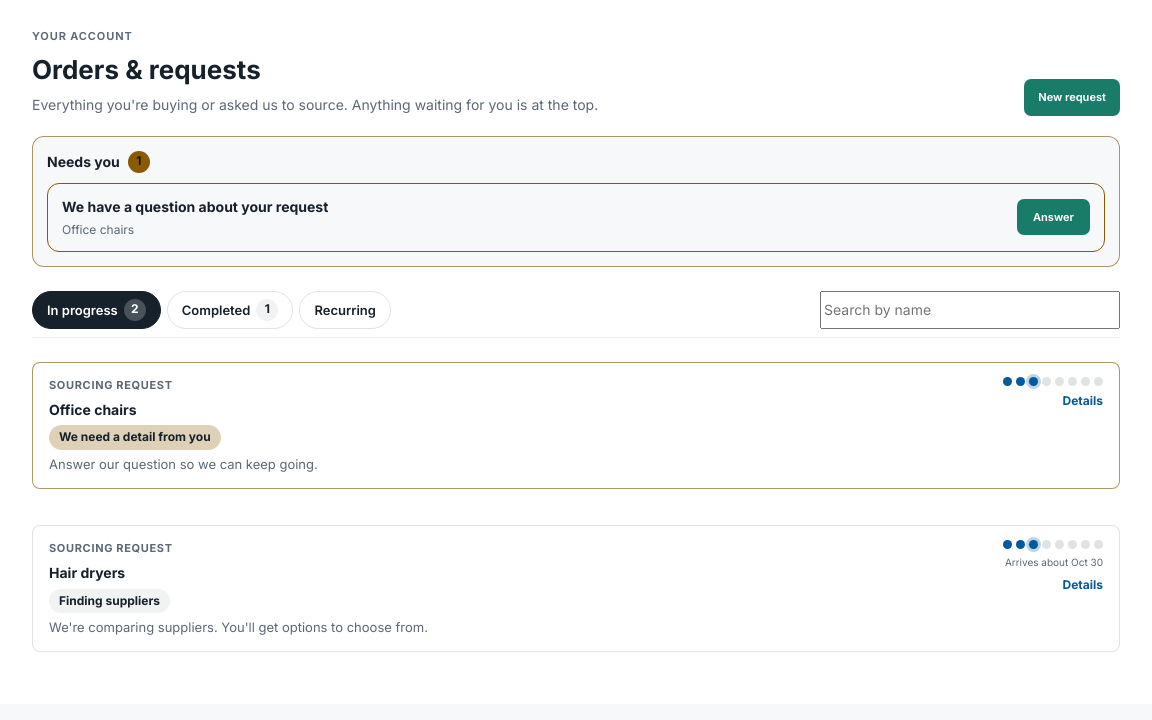
Test: Orders & requests › opens the request from Needs you, and the card shows its full detail
Click the button "Answer" at (1053, 217), box [1017, 199, 1090, 235]
(page scrolled)
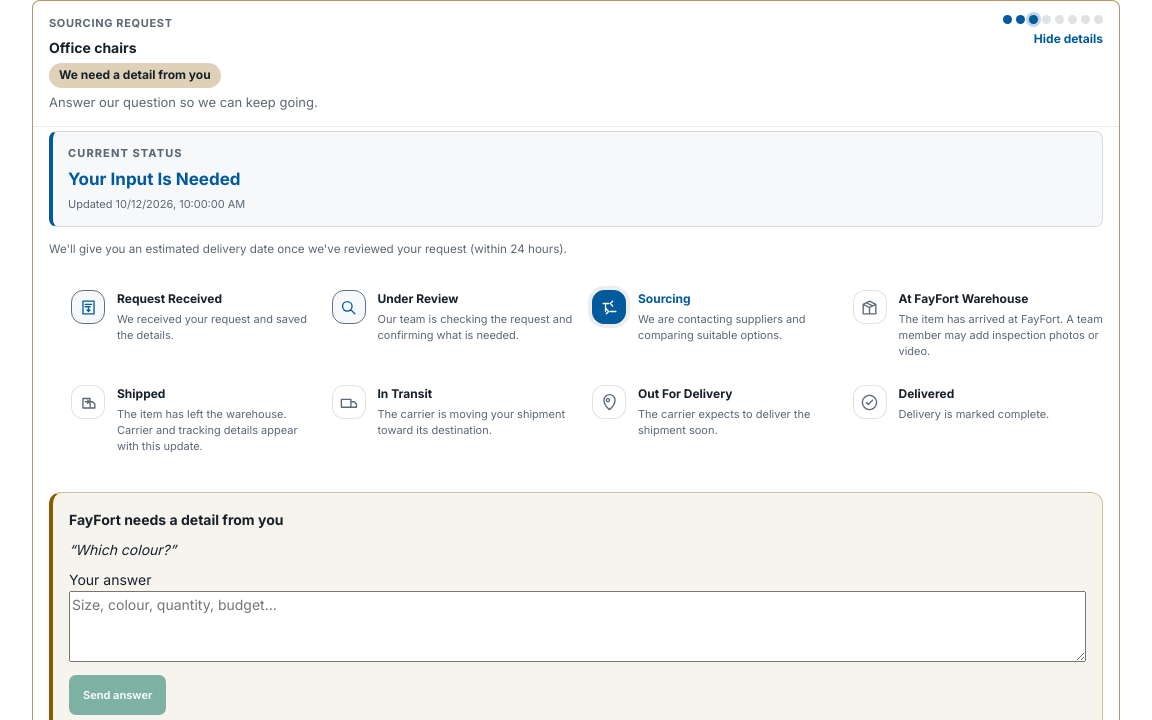
Expected: the text "“Which colour?”" is shown, [69, 541, 176, 558]
